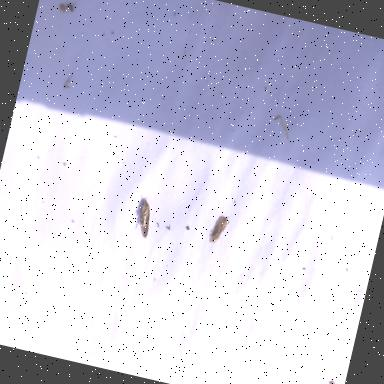pbw: (132, 195, 156, 240), (206, 212, 231, 248)
